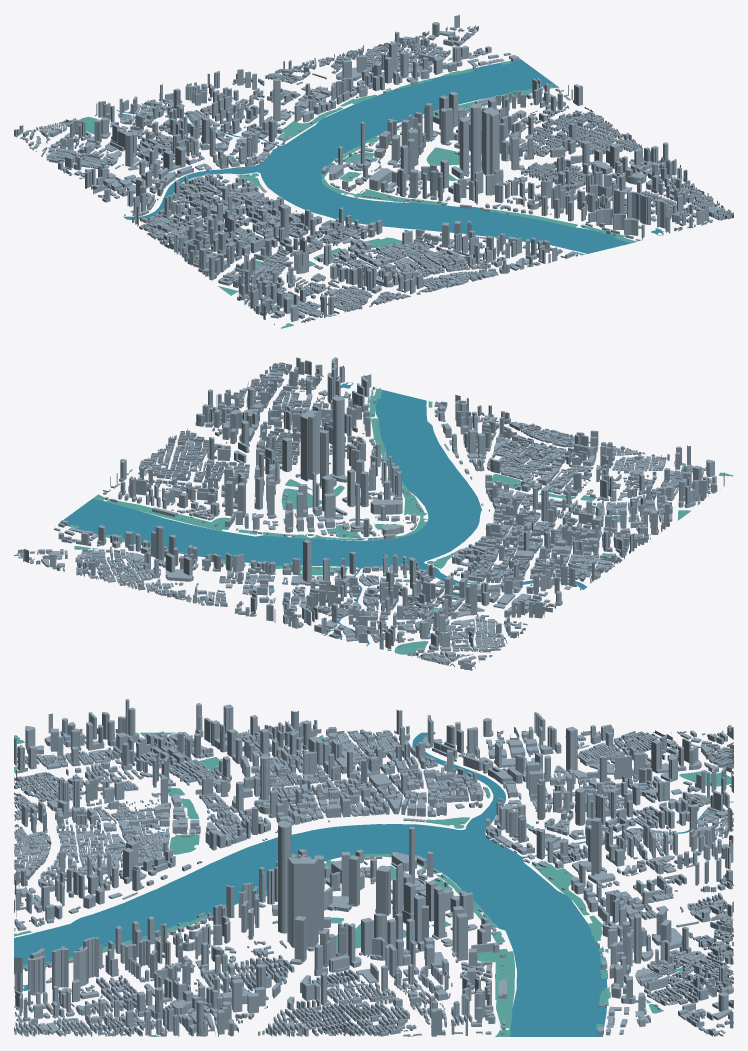
Rendered from shanghai-sample.glb.
3 views of the same model, one above another, from view 1: azimuth 30°, elevation 25°; view 2: azimuth 150°, elevation 25°; view 3: azimuth 270°, elevation 25° (orthographic). The views are drawn at different scales.
Visible parts, largest first — view 1: Buildings, Water, GreenSpace; view 2: Buildings, Water, GreenSpace; view 3: Buildings, Water, GreenSpace.
Part boxes in pixels (x1,y1,x2,y2): Buildings: (14,15,733,326); Water: (116,58,663,254); GreenSpace: (80,57,683,328); Buildings: (14,357,727,670); Water: (60,382,586,646); GreenSpace: (69,388,733,654); Buildings: (14,699,733,1036); Water: (14,732,733,1036); GreenSpace: (14,732,731,1036).
Size of the model in its own units: 4700 by 762 by 4700.
